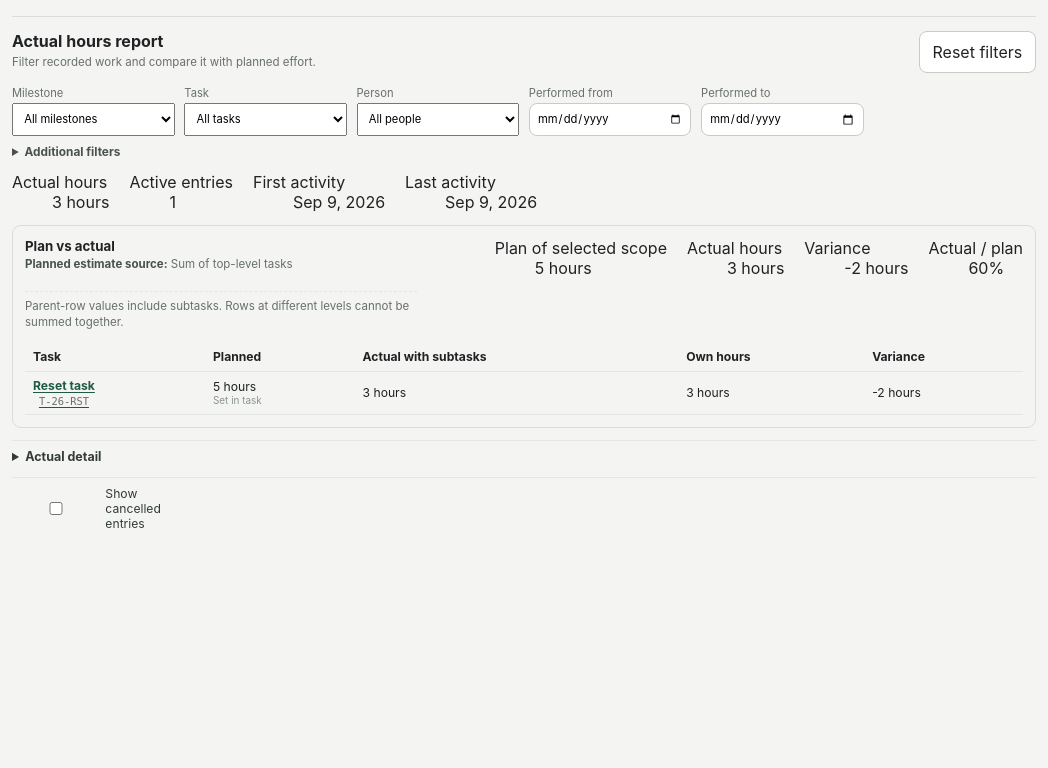
Scenario: ProjectActualReport › reset clears filters, scope mode, cutoff and the show-cancelled toggle
This screenshot has width=1048, height=768.
Click the checkbox labelled "Show cancelled entries" at [56, 509], box [16,502,96,515]
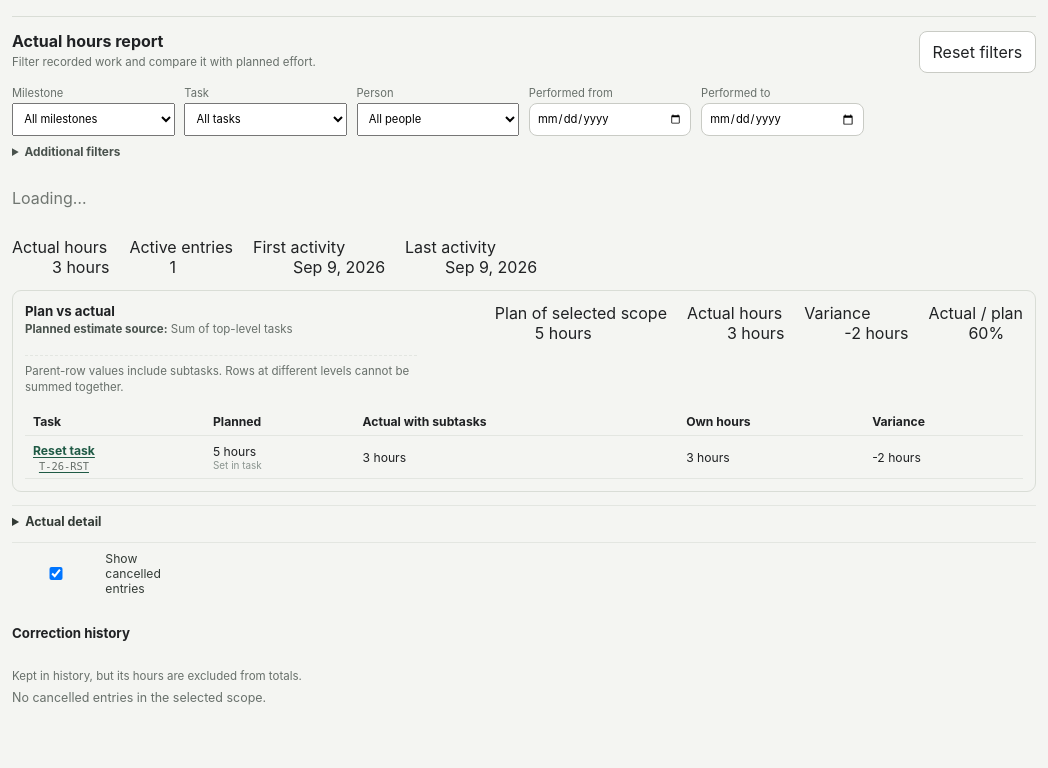
Check: the heading "Correction history" is shown, box [12,624,130,640]
Click the button "Reset filters" at [977, 52], box [919,31,1036,73]
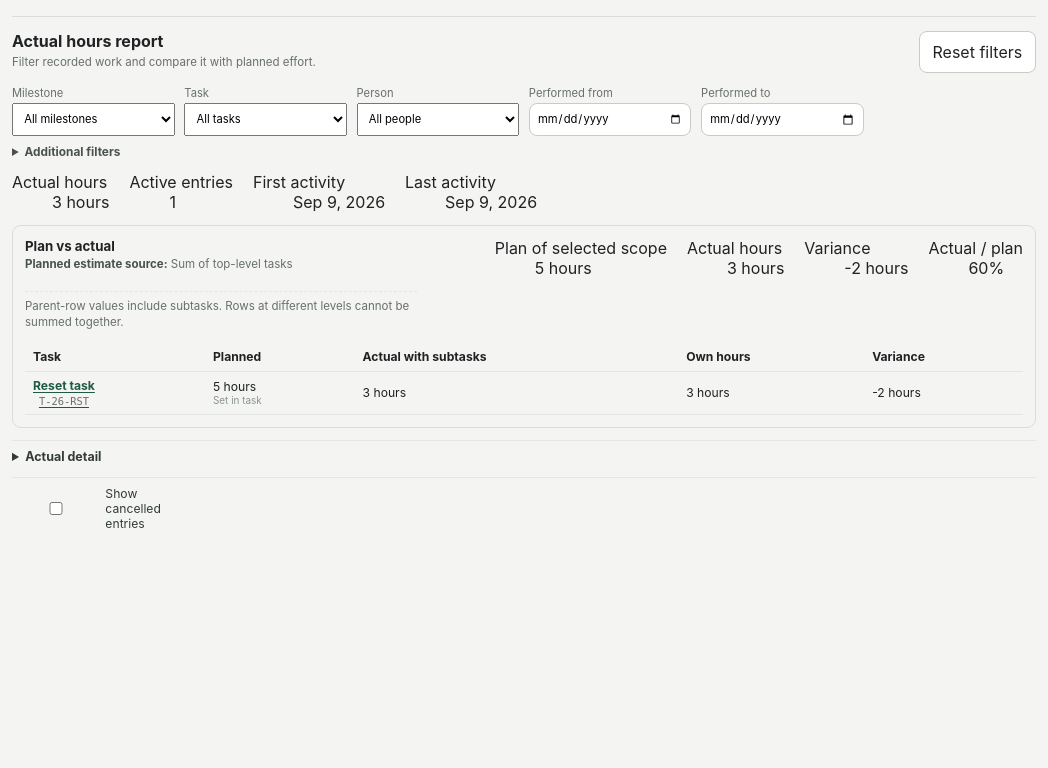
Check: the checkbox labelled "Show cancelled entries" is not checked, box [16,502,96,515]
Check: the heading "Correction history" is gone
